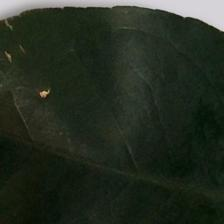healthy: (8, 32, 224, 222)
